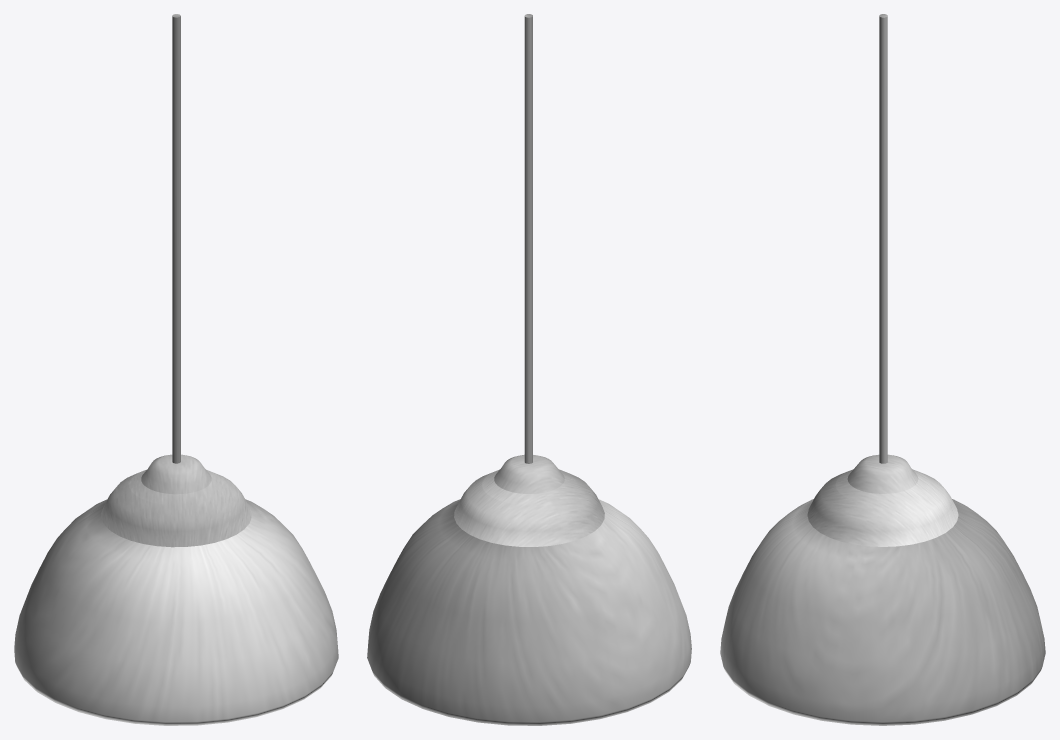
Rendered from Lamp.fbx.
The picture shows the model from 3 angles, left to right: view 1: azimuth 30°, elevation 25°; view 2: azimuth 150°, elevation 25°; view 3: azimuth 270°, elevation 25°; orthographic projection.
Parts seen in each view (by area): view 1: Bowl2; view 2: Bowl2; view 3: Bowl2.
Boxes of the visible parts, x1,y1,x2,y2 form: Bowl2: [14, 14, 338, 725]; Bowl2: [367, 14, 691, 725]; Bowl2: [720, 14, 1045, 725].
Bounding box in the file's own units: 21.78 × 47.43 × 21.78.
1 material, 1 textured.
